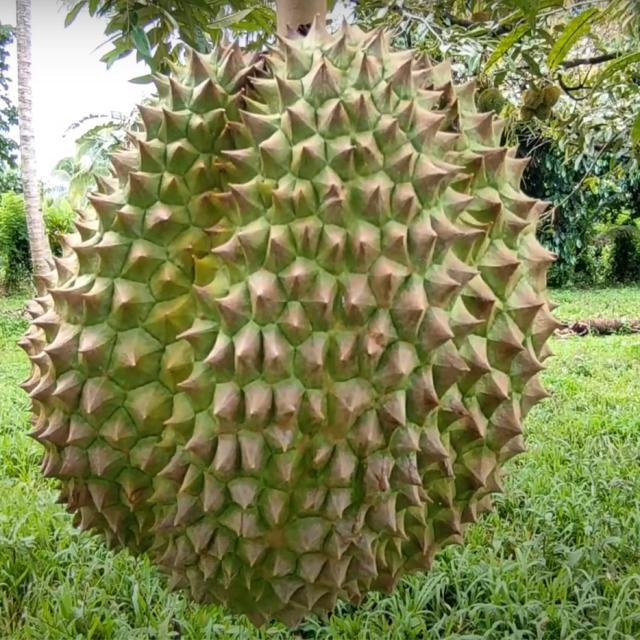mature: (14, 20, 564, 624)
